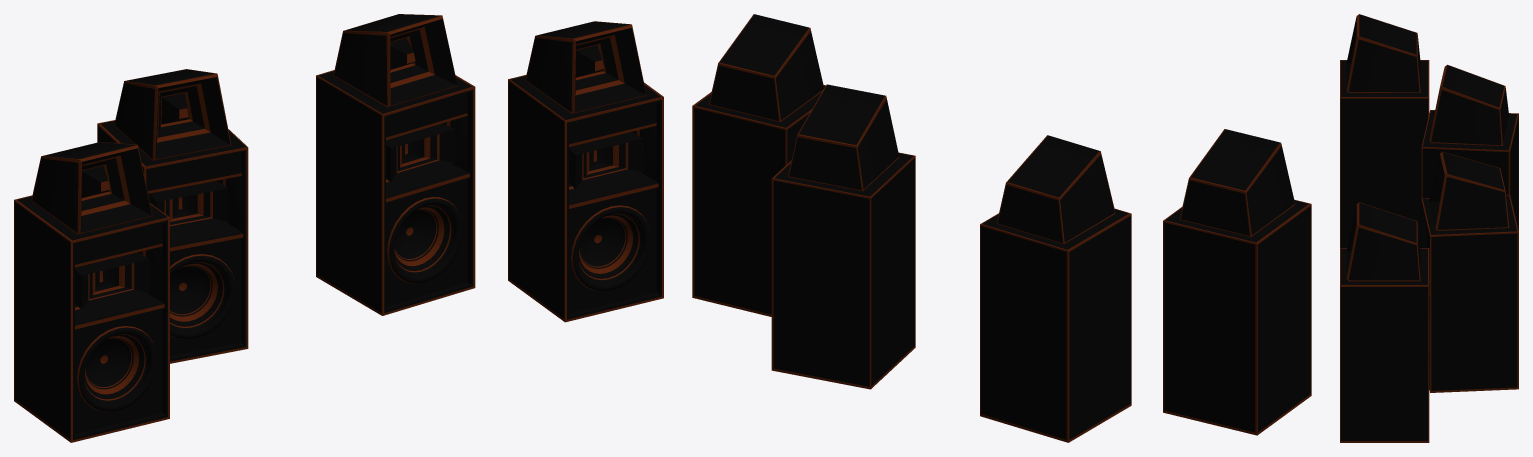
The model's file is speaker.fbx.
3 renders of one model, left to right at view 1: azimuth 30°, elevation 25°; view 2: azimuth 150°, elevation 25°; view 3: azimuth 270°, elevation 25°, orthographic. The views are drawn at different scales.
Parts seen in each view (by area): view 1: speaker; view 2: speaker; view 3: speaker.
Boxes of the visible parts, left/top/right/bottom form: speaker: left=14, top=14, right=663, bottom=442; speaker: left=692, top=14, right=1311, bottom=442; speaker: left=1340, top=14, right=1518, bottom=442.
Bounding box in the file's own units: 1200 × 522 × 401.
